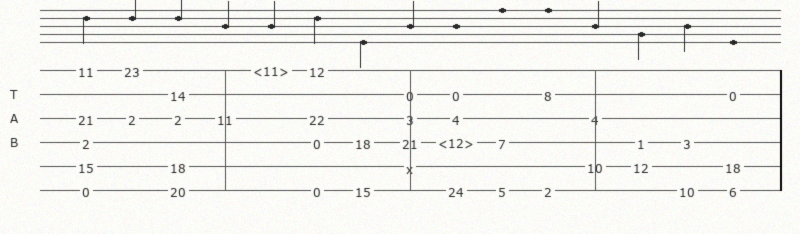0: (82, 184, 94, 197), (313, 184, 325, 197), (313, 136, 325, 149), (406, 88, 418, 101), (452, 88, 464, 101), (729, 88, 741, 101)
1: (637, 136, 649, 149)
10: (587, 160, 607, 173), (679, 184, 699, 197)
11: (78, 64, 98, 77), (217, 112, 237, 125)
12: (309, 64, 329, 77), (633, 160, 653, 173)
14: (170, 88, 190, 101)
15: (78, 160, 98, 173), (355, 184, 375, 197)
18: (170, 160, 190, 173), (355, 136, 375, 149), (725, 160, 745, 173)
2: (82, 136, 94, 149), (128, 112, 140, 125), (174, 112, 186, 125), (544, 184, 556, 197)
20: (170, 184, 190, 197)
21: (78, 112, 98, 125), (402, 136, 422, 149)
22: (309, 112, 329, 125)
23: (124, 64, 144, 77)
24: (448, 184, 468, 197)
3: (406, 112, 418, 125), (683, 136, 695, 149)
4: (452, 112, 464, 125), (591, 112, 603, 125)
5: (498, 184, 510, 197)
6: (729, 184, 741, 197)
7: (498, 136, 510, 149)
8: (544, 88, 556, 101)
harmonic: (253, 63, 293, 77), (438, 135, 478, 149)
x: (406, 161, 417, 172)
